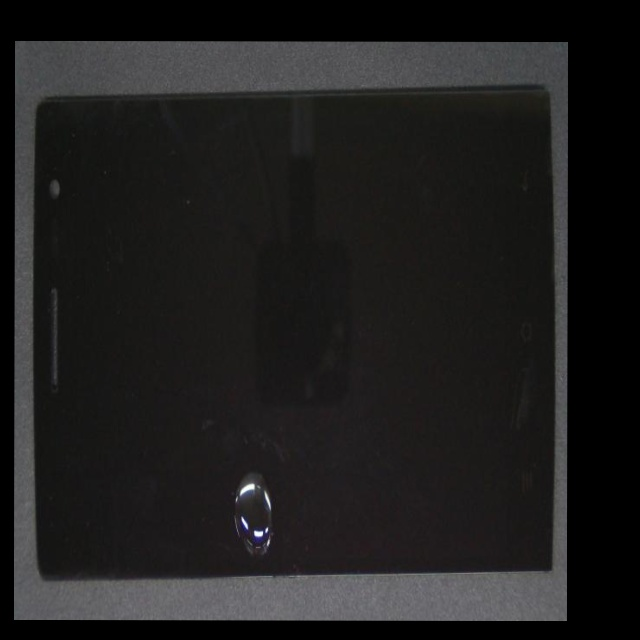oil: (159, 299, 417, 621)
